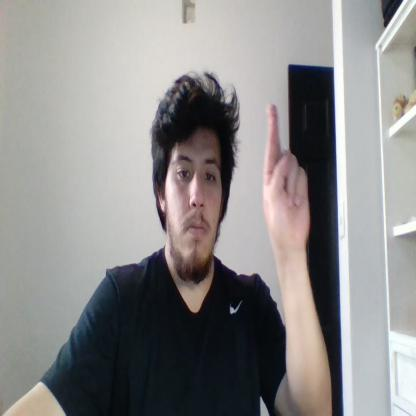R: (264, 104, 310, 254)
